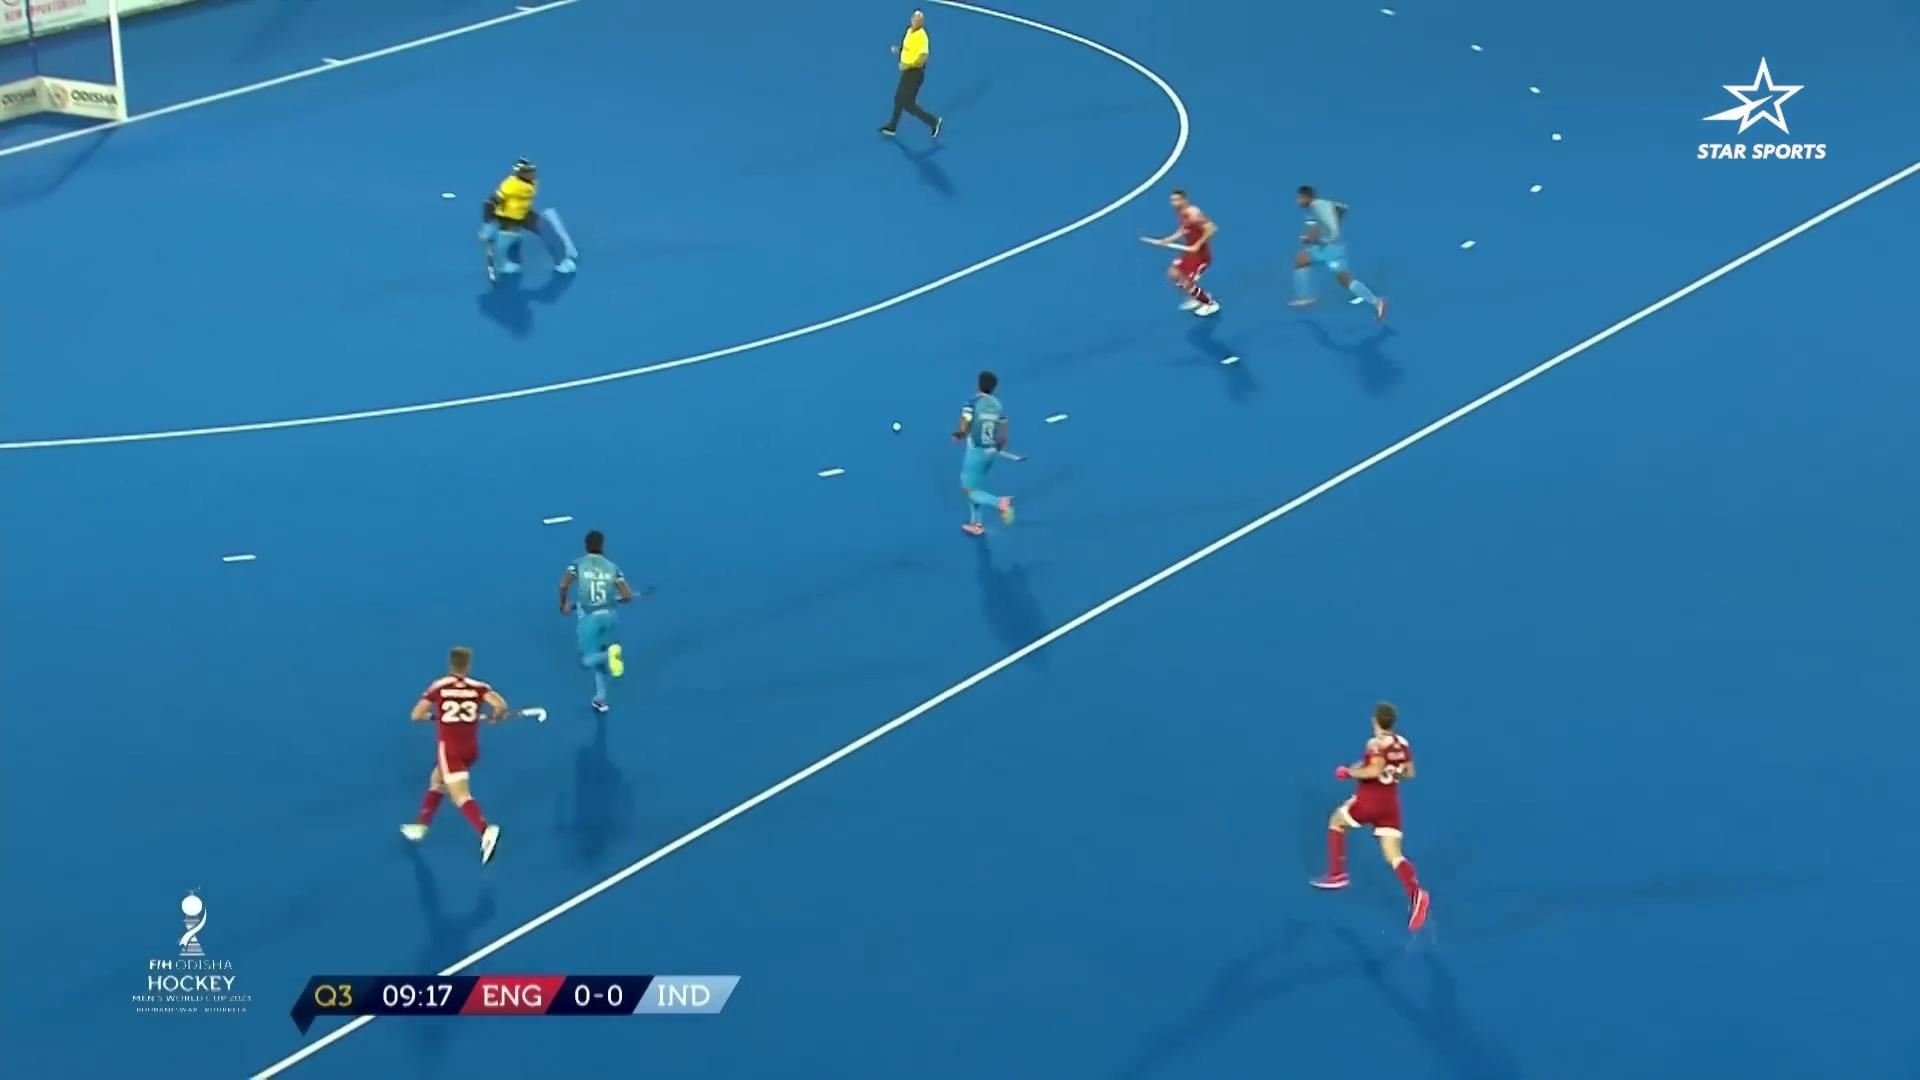ball: (876, 400, 914, 446)
